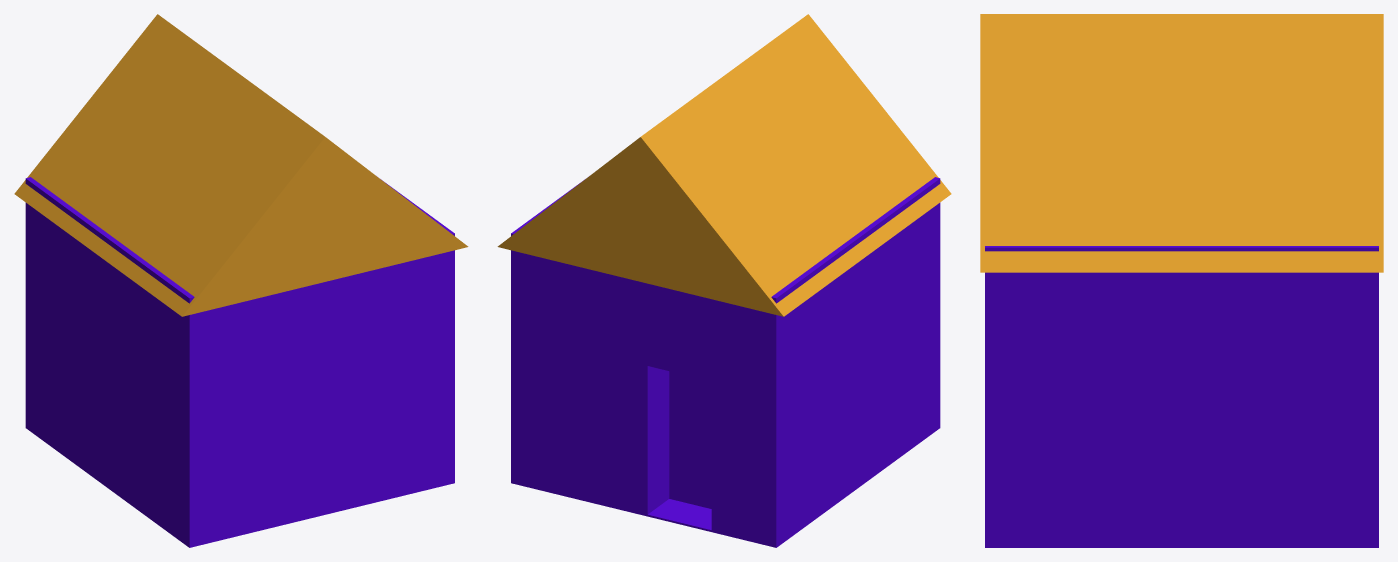
File: Homeee.glb
3 views of the same model, side by side, from view 1: azimuth 30°, elevation 25°; view 2: azimuth 150°, elevation 25°; view 3: azimuth 270°, elevation 25° (orthographic). The views are drawn at different scales.
Parts seen in each view (by area): view 1: Cube, Cube.001; view 2: Cube, Cube.001; view 3: Cube, Cube.001.
Boxes of the visible parts, x1,y1,x2,y2 form: Cube: [25, 177, 454, 547]; Cube.001: [14, 14, 468, 316]; Cube: [511, 177, 940, 547]; Cube.001: [497, 14, 951, 316]; Cube: [985, 246, 1378, 547]; Cube.001: [980, 14, 1383, 272].
Size of the model in its own units: 8.95 by 11.33 by 9.08.
